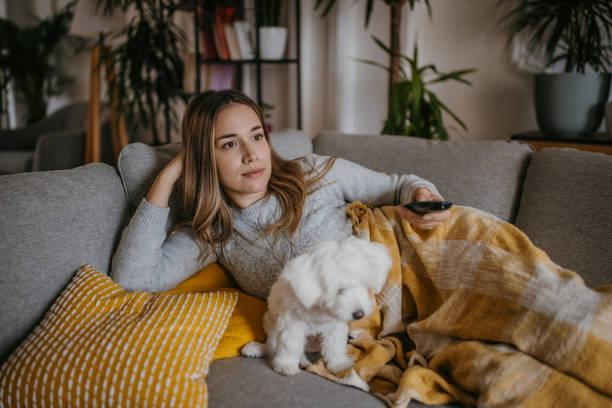blanket: (302, 201, 612, 408)
sweater: (109, 152, 444, 316)
